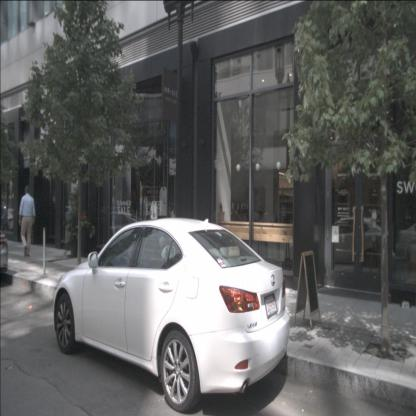human-pedestrian-adult: (18, 185, 36, 257)
vehicle-car: (53, 217, 290, 414), (319, 216, 388, 267), (85, 211, 145, 248), (395, 221, 415, 264), (0, 209, 22, 232)
